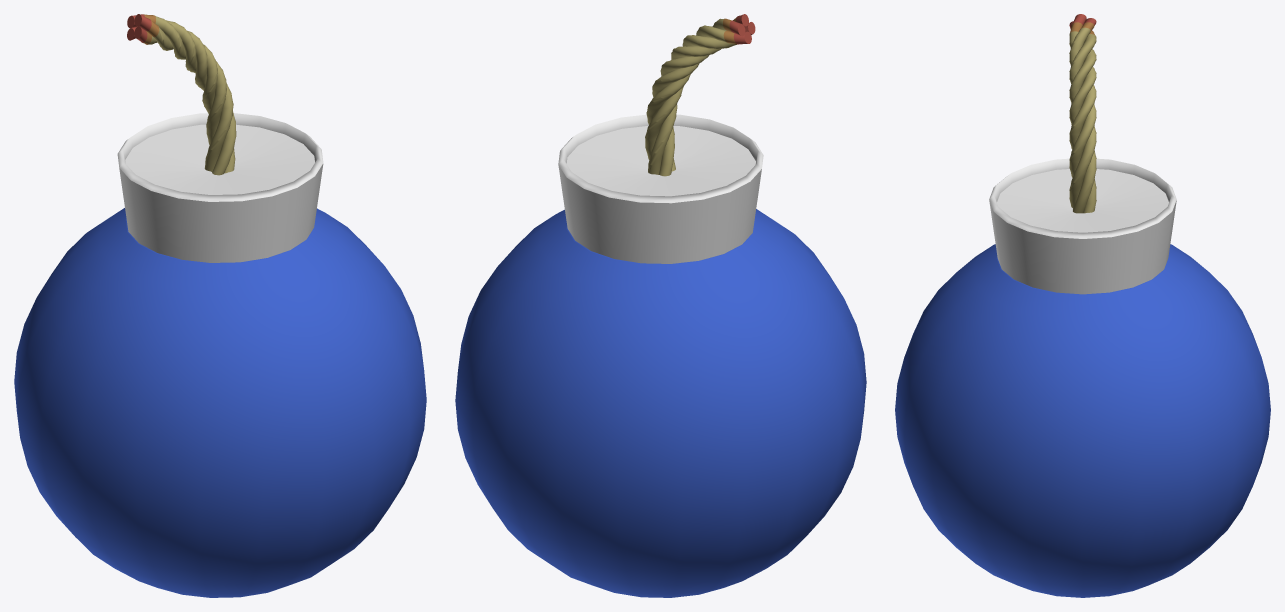
Rendered from Bomb2.fbx.
The picture shows the model from 3 angles, left to right: view 1: azimuth 30°, elevation 25°; view 2: azimuth 150°, elevation 25°; view 3: azimuth 270°, elevation 25°; orthographic projection. The views are drawn at different scales.
Parts seen in each view (by area): view 1: pSphere2, pCylinder7; view 2: pSphere2, pCylinder7; view 3: pSphere2, pCylinder7.
Boxes of the visible parts, box(x1,y1,x2,y2) form: pSphere2: box(14, 113, 426, 597); pCylinder7: box(127, 14, 236, 175); pSphere2: box(455, 114, 866, 597); pCylinder7: box(645, 14, 755, 176); pSphere2: box(895, 158, 1270, 597); pCylinder7: box(1069, 14, 1096, 213).
Size of the model in its own units: 2 by 3.11 by 2.
